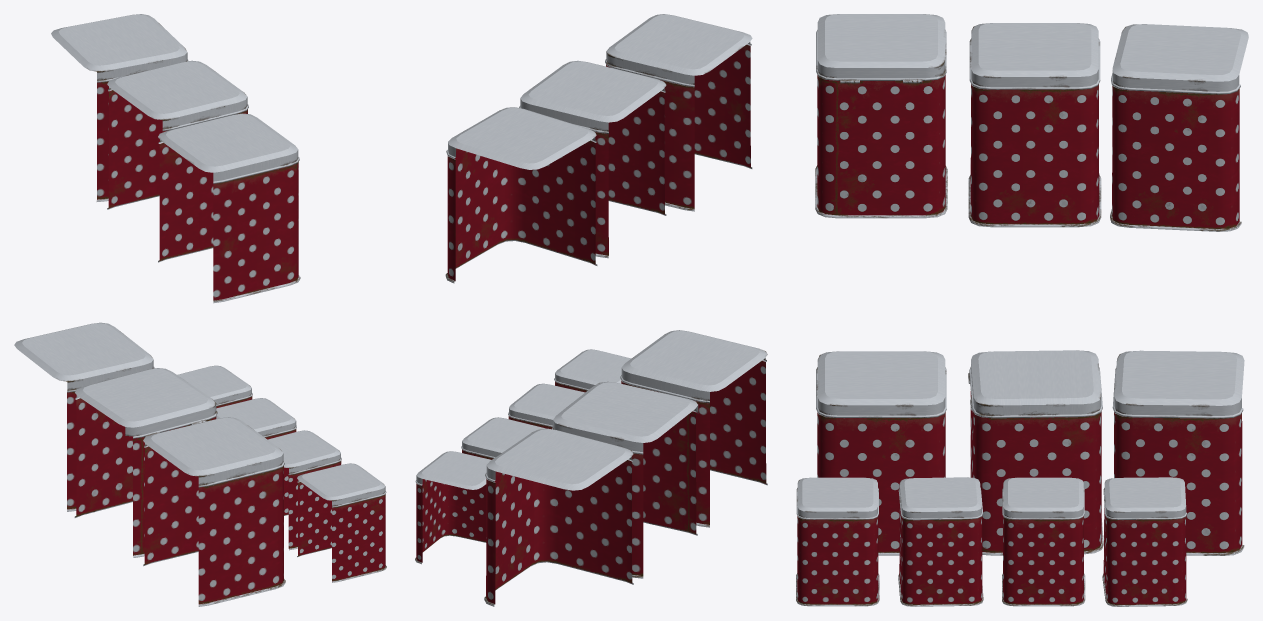
File: FurnitureKicthen02_add02.FBX
The picture shows the model from 3 angles, left to right: view 1: azimuth 30°, elevation 25°; view 2: azimuth 150°, elevation 25°; view 3: azimuth 270°, elevation 25°; orthographic projection. The views are drawn at different scales.
Visible parts, largest first — view 1: FurnitureKicthen02_add02_LOD0; view 2: FurnitureKicthen02_add02_LOD0; view 3: FurnitureKicthen02_add02_LOD0.
Part boxes in pixels (x1=…): FurnitureKicthen02_add02_LOD0: x1=14, y1=14, x2=386, y2=606; FurnitureKicthen02_add02_LOD0: x1=415, y1=14, x2=767, y2=606; FurnitureKicthen02_add02_LOD0: x1=796, y1=14, x2=1248, y2=606.
Size of the model in its own units: 23.18 by 41.28 by 50.11.
